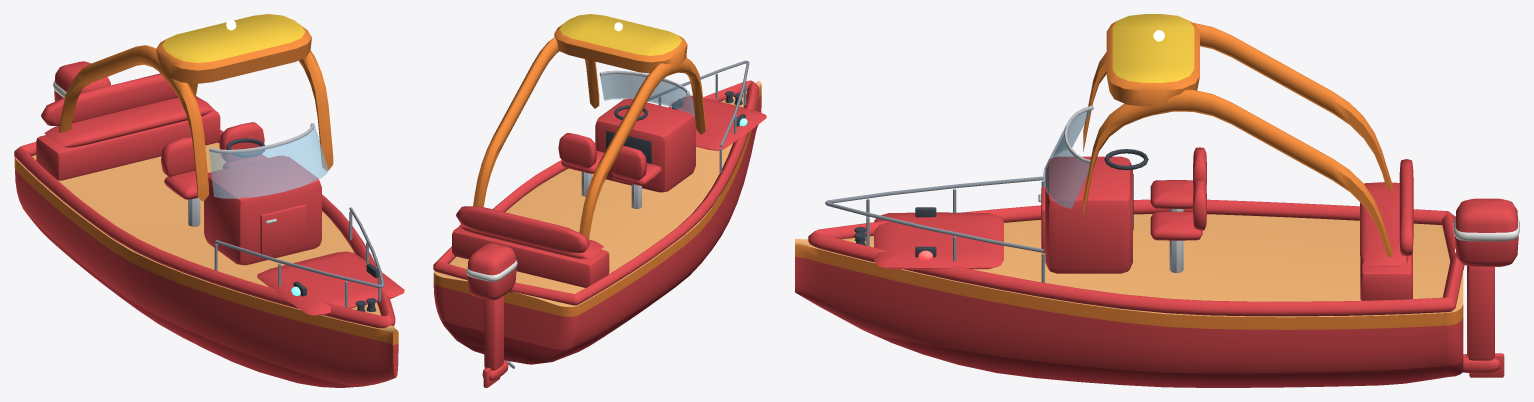
Rendered from lancha_vermelha.glb.
The picture shows the model from 3 angles, left to right: view 1: azimuth 30°, elevation 25°; view 2: azimuth 150°, elevation 25°; view 3: azimuth 270°, elevation 25°; orthographic projection. The views are drawn at different scales.
Parts seen in each view (by area): view 1: lancha_vermelha, porta_console; view 2: lancha_vermelha; view 3: lancha_vermelha.
Boxes of the visible parts, bbox=[...] form: lancha_vermelha: bbox=[14, 14, 404, 387]; porta_console: bbox=[260, 204, 306, 254]; lancha_vermelha: bbox=[433, 14, 766, 387]; lancha_vermelha: bbox=[795, 14, 1519, 387].
Bounding box in the file's own units: 2.17 × 3.28 × 6.21.
Materials: 5 (1 with a texture image).
